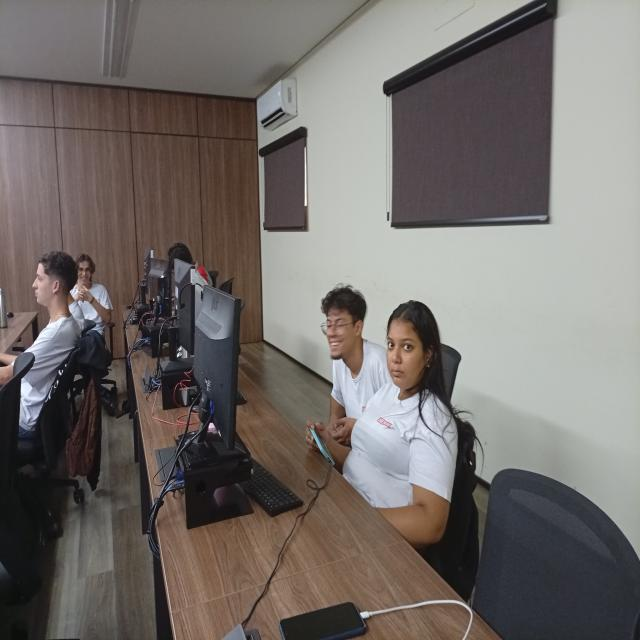sem_oculos: (384, 332, 432, 358), (320, 316, 362, 336), (34, 270, 54, 287), (79, 256, 94, 273)
